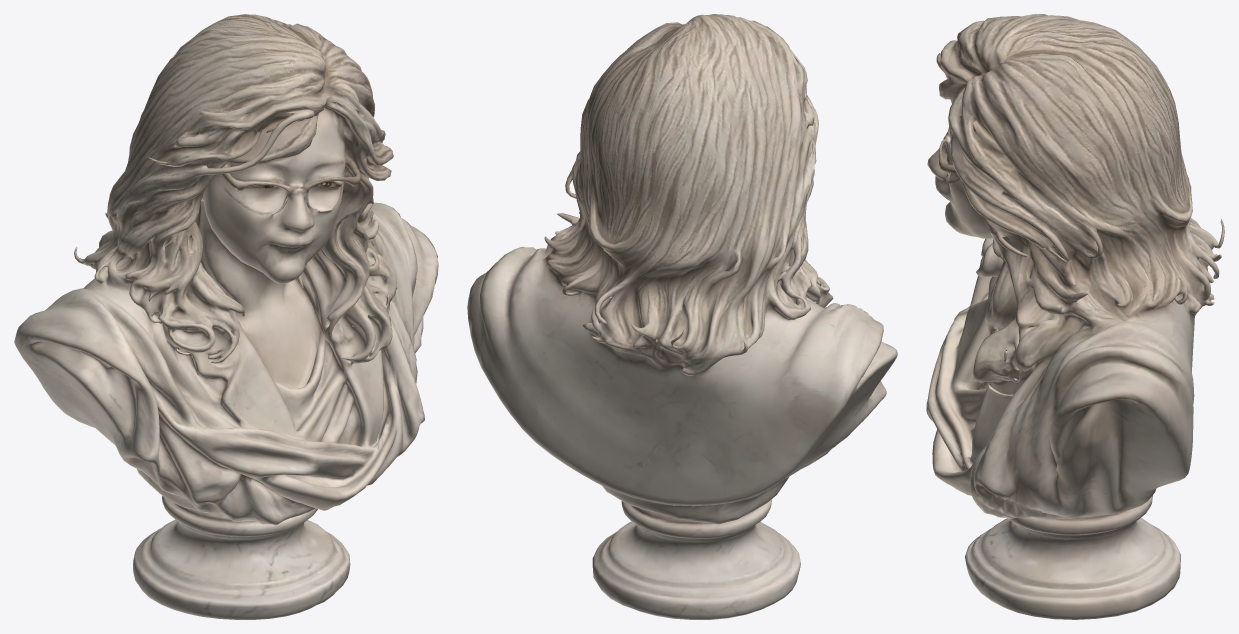
Rendered from 01_조민영.compressed.glb.
The picture shows the model from 3 angles, left to right: view 1: azimuth 30°, elevation 25°; view 2: azimuth 150°, elevation 25°; view 3: azimuth 270°, elevation 25°; orthographic projection. The views are drawn at different scales.
Visible parts, largest first — view 1: model; view 2: model; view 3: model.
Boxes of the visible parts, x1,y1,x2,y2 form: model: (14,14,438,619); model: (467,14,897,619); model: (926,14,1224,619).
Bounding box in the file's own units: 1.41 × 1.9 × 0.9179.
1 material, 1 textured.
